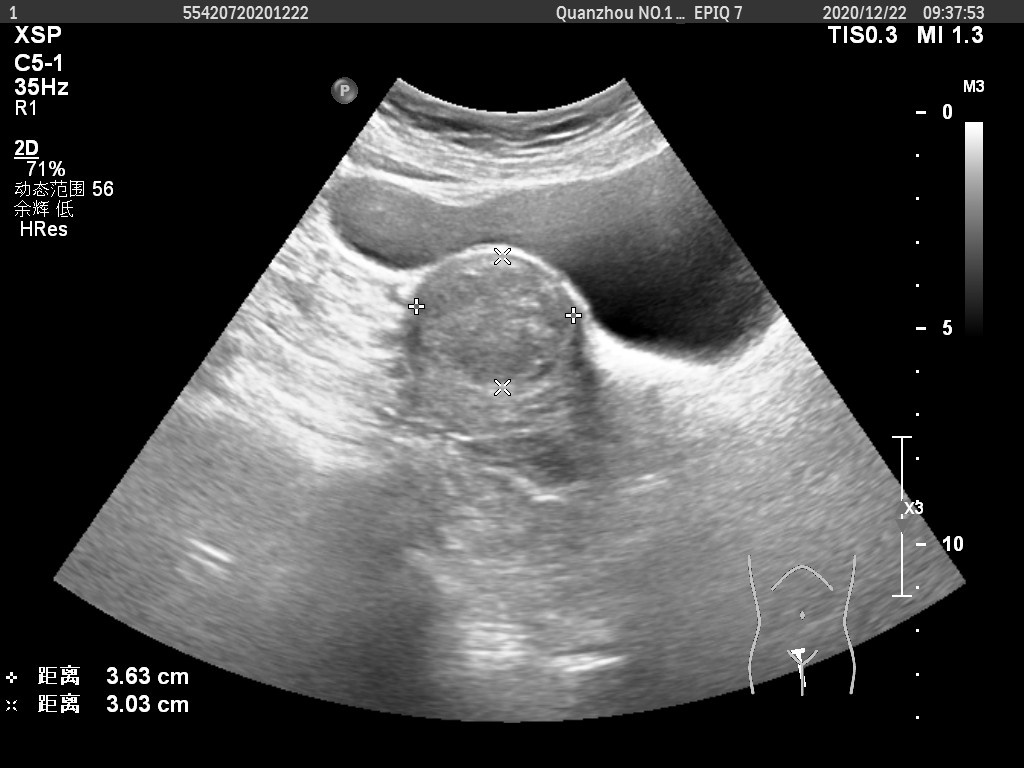肌瘤: (416, 252, 573, 386)
